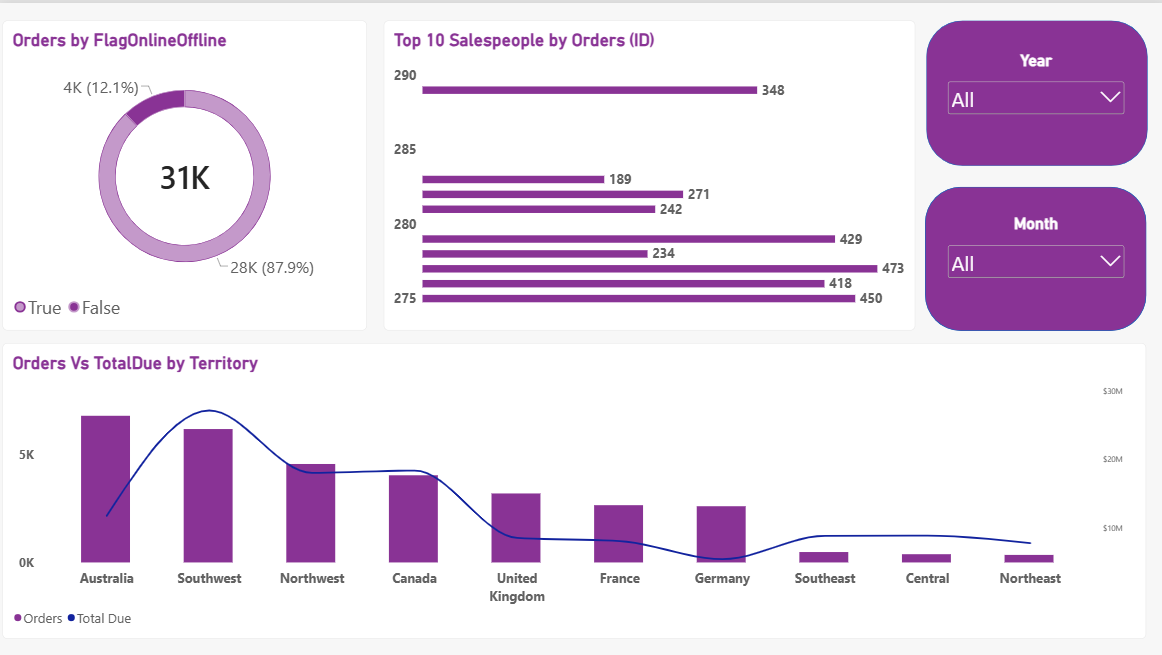

The page's visual inventory and layout, read from the dashboard file:
{"tool":"powerbi","page":{"name":"Analysis","canvas":[1920,1080],"ordinal":2},"visuals":[{"type":"donutChart","title":"Orders by FlagOnlineOffline","fields":{"Category":["Order_Header.Online_Order_Flag"],"Y":["Order_Header.Orders"]},"box":[4.2,29.2,600,510.4],"z":0},{"type":"lineClusteredColumnComboChart","title":"Orders Vs TotalDue by Territory","fields":{"Category":["Sales_Territory.Name"],"Y":["Order_Header.Orders"],"Y2":["Order_Header.Total Due"]},"box":[4.2,560.4,1883.3,487.5],"z":1000},{"type":"clusteredBarChart","title":"Top 10 Salespeople by Orders (ID)","fields":{"Category":["Order_Header.Sales_Person_ID"],"Y":["Order_Header.Orders"]},"box":[631.2,29.2,875,510.4],"z":2000},{"type":"shape","box":[1525,29.2,364.6,239.6],"z":3000},{"type":"shape","box":[1522.9,302.1,364.6,237.5],"z":4000},{"type":"slicer","title":"Year","fields":{"Values":["Dates.Year"]},"box":[1556.2,79.2,300,135.4],"z":5000},{"type":"slicer","title":"Month","fields":{"Values":["Dates.Month"]},"box":[1556.2,347.9,300,145.8],"z":6000}]}

Visuals, with their boxes in screenshot pixels (x1, y1, x2, y2), scaled from the page's 1920x1080 canvas onto the 1162x655 screenshot:
"Orders by FlagOnlineOffline" donutChart: pyautogui.locateOnScreen(3, 18, 366, 327)
"Orders Vs TotalDue by Territory" lineClusteredColumnComboChart: pyautogui.locateOnScreen(3, 340, 1142, 636)
"Top 10 Salespeople by Orders (ID)" clusteredBarChart: pyautogui.locateOnScreen(382, 18, 912, 327)
shape: pyautogui.locateOnScreen(923, 18, 1144, 163)
shape: pyautogui.locateOnScreen(922, 183, 1142, 327)
"Year" slicer: pyautogui.locateOnScreen(942, 48, 1123, 130)
"Month" slicer: pyautogui.locateOnScreen(942, 211, 1123, 299)
